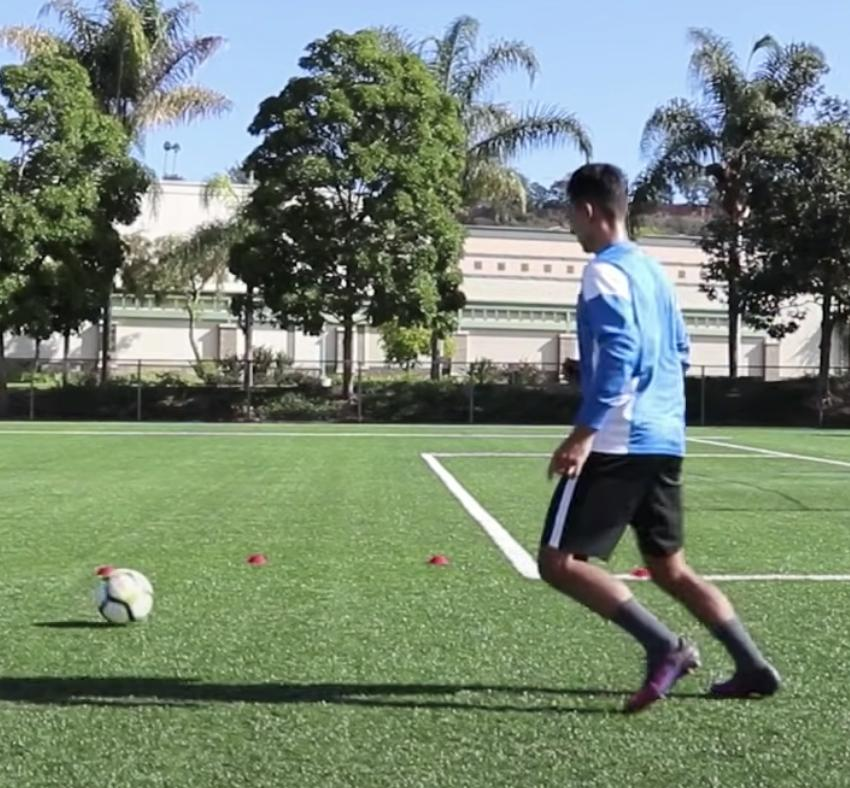ball: (98, 569, 153, 624)
foot: (624, 634, 702, 714), (710, 655, 782, 698)
person: (538, 166, 778, 710)
